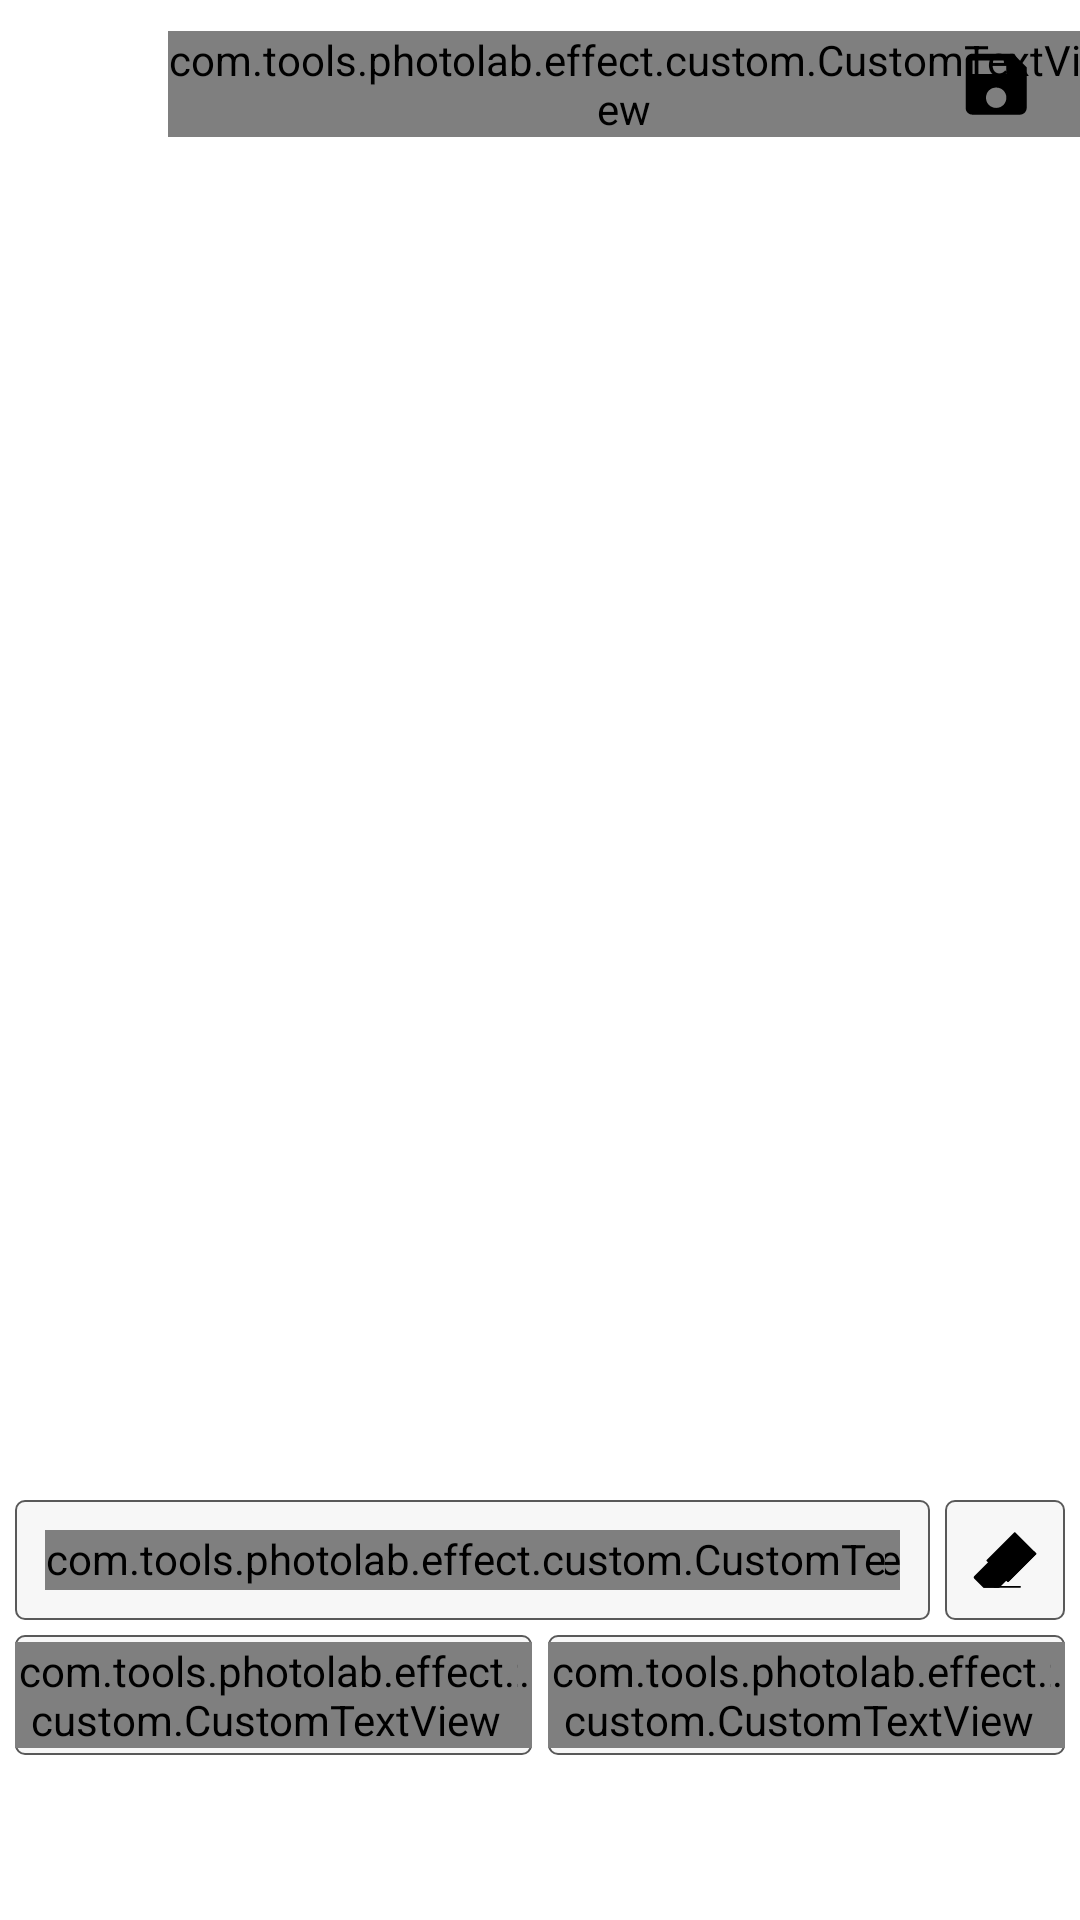

Icons on this 1080 x 1920 Android screen, each with its box as (x1,y1,x2,y2):
erase: (945,1500,1065,1620)
